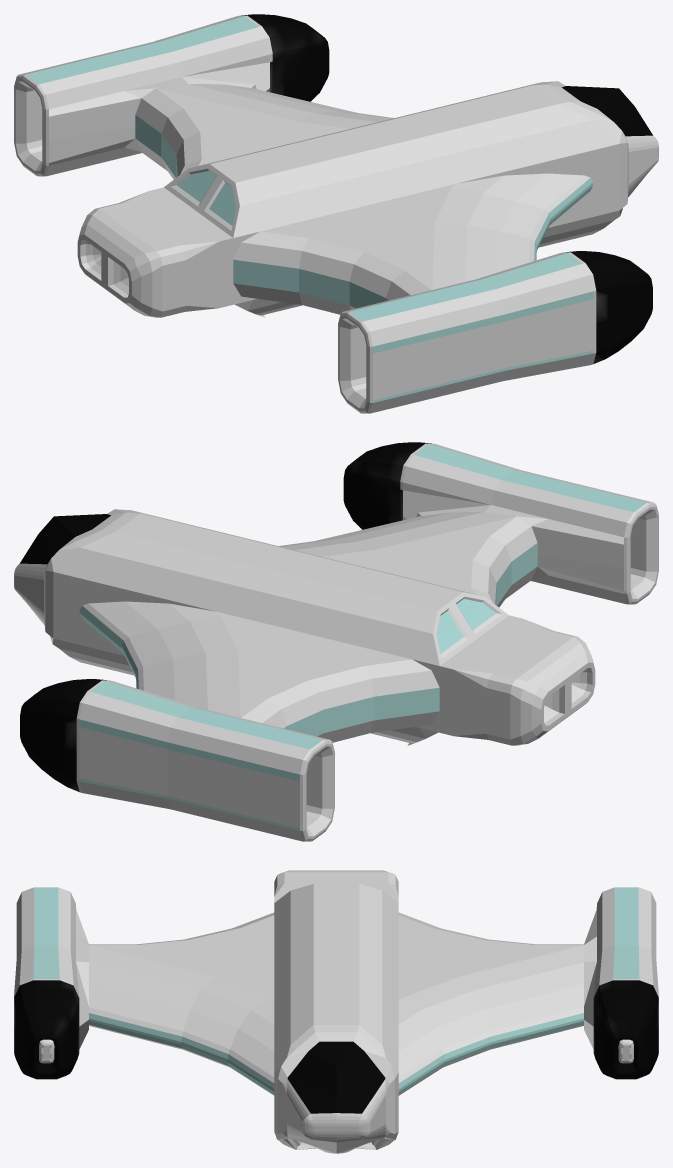
The model's file is Starship 2.fbx.
The picture shows the model from 3 angles, top to bottom: view 1: azimuth 30°, elevation 25°; view 2: azimuth 150°, elevation 25°; view 3: azimuth 270°, elevation 25°; orthographic projection. The views are drawn at different scales.
Visible parts, largest first — view 1: Cube; view 2: Cube; view 3: Cube.
Boxes of the visible parts, <box> form: Cube: <box>14,14,658,413</box>; Cube: <box>14,442,658,841</box>; Cube: <box>14,870,658,1153</box>.
Size of the model in its own units: 846 by 200 by 979.
